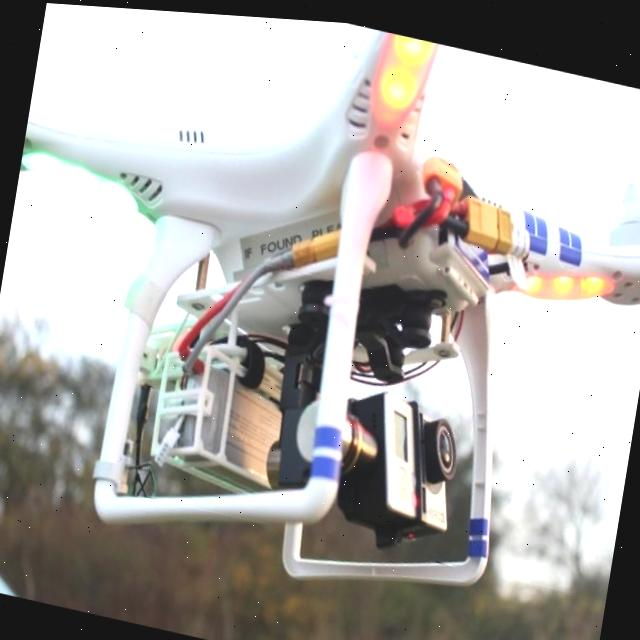drone: (0, 0, 640, 438)
